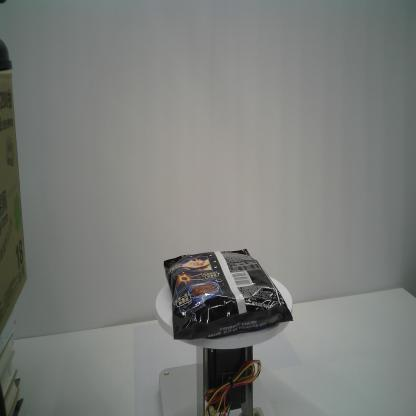Instant Noodles: (161, 246, 294, 340)
